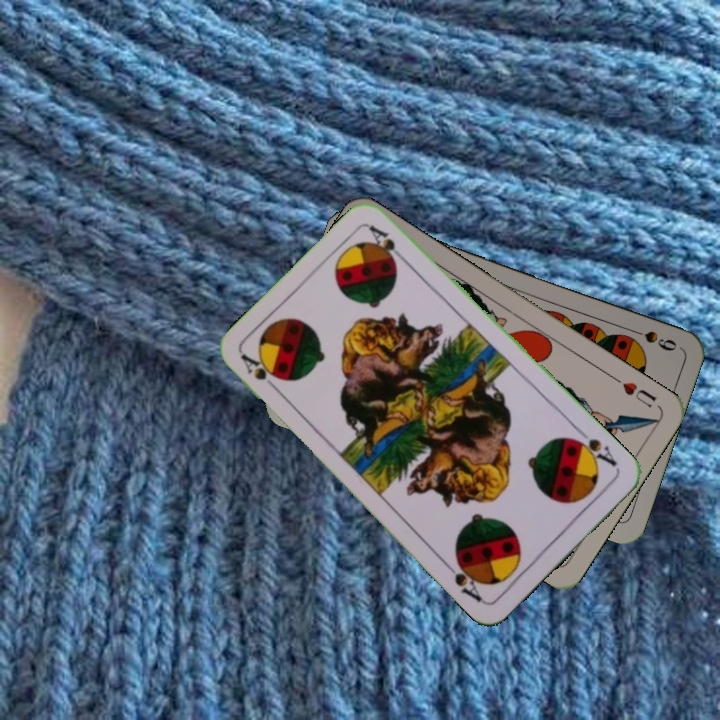HU: (609, 372, 659, 411)
S9: (623, 323, 679, 354)
SA: (567, 425, 620, 470), (236, 350, 284, 397)
